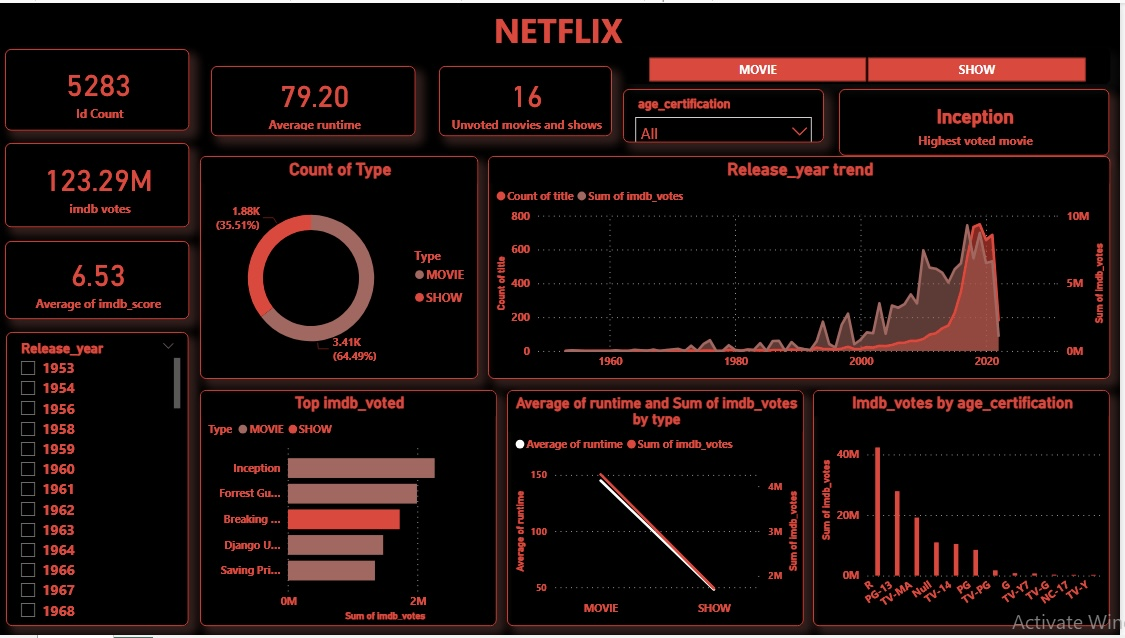

The dashboard page shown, as its layout file describes it:
{"tool":"powerbi","page":{"name":"Page 1","canvas":[1280,720],"ordinal":0},"visuals":[{"type":"textbox","box":[0,0,1279.7,61.9],"z":0},{"type":"card","fields":{"Values":["Sum(Task 1- Netflix TV Shows and Movies.imdb_votes)"]},"box":[10.3,159.5,209.6,95.7],"z":1000},{"type":"slicer","fields":{"Values":["Task 1- Netflix TV Shows and Movies.type"]},"box":[714.2,51.6,554.8,40.6],"z":2000},{"type":"card","fields":{"Values":["CountNonNull(Task 1- Netflix TV Shows and Movies.id)"]},"box":[10.3,52.4,209.6,93.4],"z":3000},{"type":"slicer","fields":{"Values":["Task 1- Netflix TV Shows and Movies.release_year"]},"box":[11.4,374.8,208.5,334.9],"z":4000},{"type":"card","fields":{"Values":["Avg(Task 1- Netflix TV Shows and Movies.imdb_score)"]},"box":[10.3,271.1,209.6,88.9],"z":5000},{"type":"card","fields":{"Values":["Min(Task 1- Netflix TV Shows and Movies.title)"]},"box":[960.5,98.4,308,75.9],"z":6000},{"type":"barChart","title":"Top  imdb_voted ","fields":{"Category":["Task 1- Netflix TV Shows and Movies.title"],"Series":["Task 1- Netflix TV Shows and Movies.type"],"Y":["Sum(Task 1- Netflix TV Shows and Movies.imdb_votes)"]},"box":[232.7,441,338.4,269.5],"z":7000},{"type":"donutChart","title":"Count of Type","fields":{"Y":["CountNonNull(Task 1- Netflix TV Shows and Movies.type)"],"Category":["Task 1- Netflix TV Shows and Movies.type"]},"box":[232.7,174.5,316.9,254.2],"z":8000},{"type":"areaChart","title":"Release_year trend","fields":{"Category":["Task 1- Netflix TV Shows and Movies.release_year"],"Y":["CountNonNull(Task 1- Netflix TV Shows and Movies.title)"],"Y2":["Sum(Task 1- Netflix TV Shows and Movies.imdb_votes)"]},"box":[560.4,174.5,708.9,254.2],"z":9000},{"type":"lineChart","fields":{"Category":["Task 1- Netflix TV Shows and Movies.type"],"Y":["Avg(Task 1- Netflix TV Shows and Movies.runtime)"],"Y2":["Sum(Task 1- Netflix TV Shows and Movies.imdb_votes)"]},"box":[581.8,441,338.4,269.5],"z":10000},{"type":"columnChart","title":"Imdb_votes by age_certification","fields":{"Category":["Task 1- Netflix TV Shows and Movies.age_certification"],"Y":["Sum(Task 1- Netflix TV Shows and Movies.imdb_votes)"]},"box":[930.9,441,338.4,269.5],"z":11000},{"type":"slicer","fields":{"Values":["Task 1- Netflix TV Shows and Movies.age_certification"]},"box":[713.9,98.2,229.5,61.2],"z":12000},{"type":"card","fields":{"Values":["Avg(Task 1- Netflix TV Shows and Movies.runtime)"]},"box":[244.7,71.7,233.4,80.2],"z":13000},{"type":"card","fields":{"Values":["CountNonNull(Task 1- Netflix TV Shows and Movies.title)"]},"box":[504.8,71.7,196.9,80.2],"z":14000}]}

Visuals, with their boxes in screenshot pixels (x1, y1, x2, y2), scaled from the page's 1280x720 canvas onto the 1125x638 screenshot:
textbox: rect(0, 0, 1124, 55)
card - Sum(Task 1- Netflix TV Shows and Movies.imdb_votes): rect(9, 141, 193, 226)
slicer - Task 1- Netflix TV Shows and Movies.type: rect(628, 46, 1115, 82)
card - CountNonNull(Task 1- Netflix TV Shows and Movies.id): rect(9, 46, 193, 129)
slicer - Task 1- Netflix TV Shows and Movies.release_year: rect(10, 332, 193, 629)
card - Avg(Task 1- Netflix TV Shows and Movies.imdb_score): rect(9, 240, 193, 319)
card - Min(Task 1- Netflix TV Shows and Movies.title): rect(844, 87, 1115, 154)
"Top  imdb_voted " barChart: rect(205, 391, 502, 630)
"Count of Type" donutChart: rect(205, 155, 483, 380)
"Release_year trend" areaChart: rect(493, 155, 1116, 380)
lineChart - Task 1- Netflix TV Shows and Movies.type x Avg(Task 1- Netflix TV Shows and Movies.runtime): rect(511, 391, 809, 630)
"Imdb_votes by age_certification" columnChart: rect(818, 391, 1116, 630)
slicer - Task 1- Netflix TV Shows and Movies.age_certification: rect(627, 87, 829, 141)
card - Avg(Task 1- Netflix TV Shows and Movies.runtime): rect(215, 64, 420, 135)
card - CountNonNull(Task 1- Netflix TV Shows and Movies.title): rect(444, 64, 617, 135)
